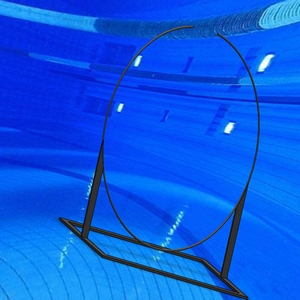circle: (58, 26, 261, 299)
